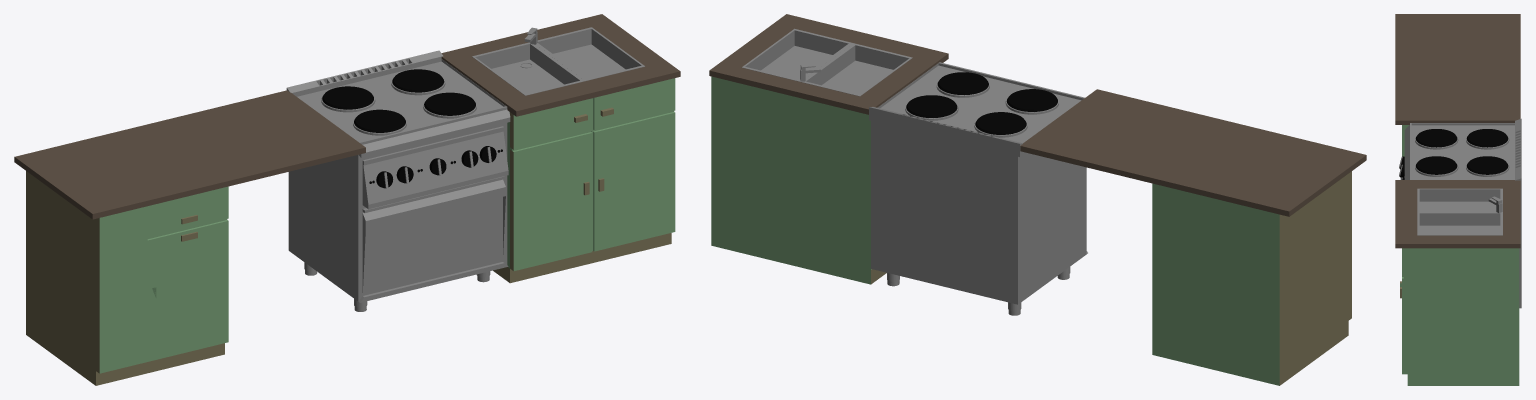
The model's file is küchenkasten.fbx.
The picture shows the model from 3 angles, left to right: view 1: azimuth 30°, elevation 25°; view 2: azimuth 150°, elevation 25°; view 3: azimuth 270°, elevation 25°; orthographic projection. The views are drawn at different scales.
Visible parts, largest first — view 1: Cube.003; view 2: Cube.003; view 3: Cube.003.
Boxes of the visible parts, x1=… form: Cube.003: x1=14, y1=14, x2=680, y2=385; Cube.003: x1=709, y1=14, x2=1366, y2=385; Cube.003: x1=1395, y1=14, x2=1521, y2=385.
Size of the model in its own units: 355 by 112 by 82.43.
